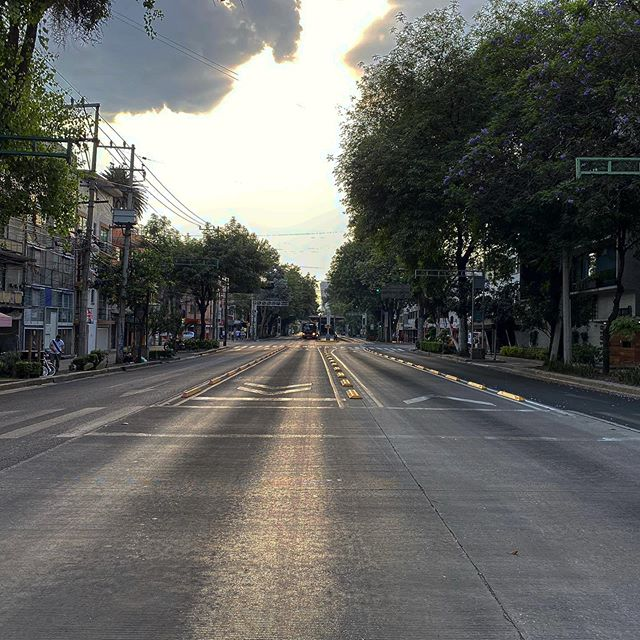building: (1, 179, 125, 360)
sky: (43, 10, 384, 240)
street: (1, 340, 640, 640)
tree: (477, 1, 640, 366), (366, 5, 484, 344), (2, 7, 123, 207), (119, 236, 269, 366)
